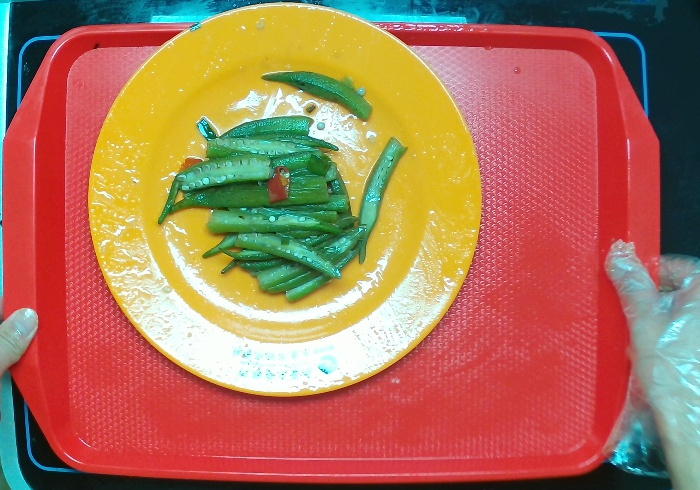YKMZ-Ju_Se_Mian_Pan: (71, 1, 490, 406)
